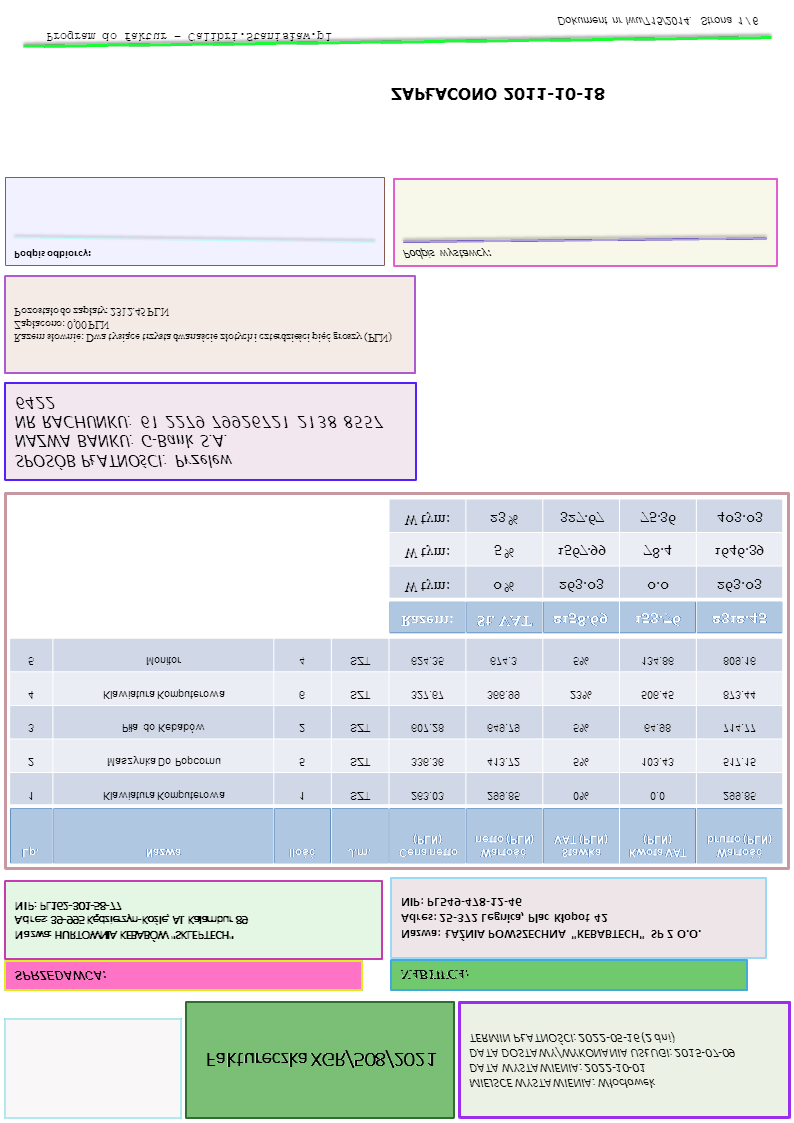Table: (7, 638, 782, 866), (386, 497, 781, 637)
TextBox: (11, 388, 389, 474), (8, 299, 398, 347), (463, 1026, 739, 1093), (397, 890, 707, 946), (8, 896, 254, 945), (199, 1045, 437, 1074), (383, 81, 610, 109), (42, 27, 335, 47), (552, 11, 763, 33), (398, 240, 493, 266), (8, 965, 108, 986), (7, 243, 94, 264), (395, 966, 469, 986)
